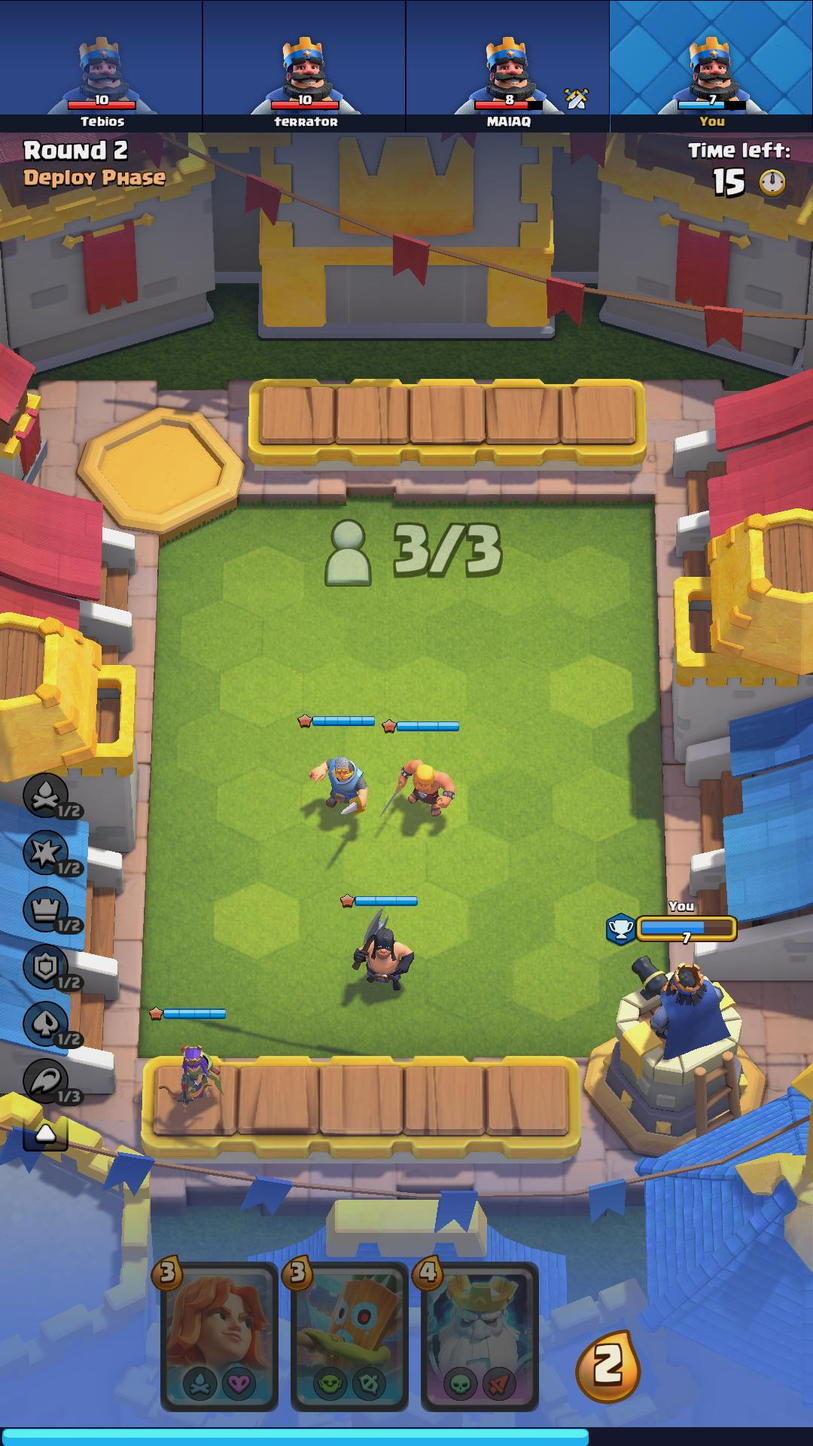barbarian: (383, 746, 458, 832)
executioner: (346, 906, 419, 997)
hand-dart: (294, 1260, 406, 1405)
hand-ghost: (423, 1264, 539, 1413)
hand-valkyrie: (161, 1264, 274, 1410)
knight: (302, 747, 375, 826)
queen: (157, 1044, 222, 1113)
